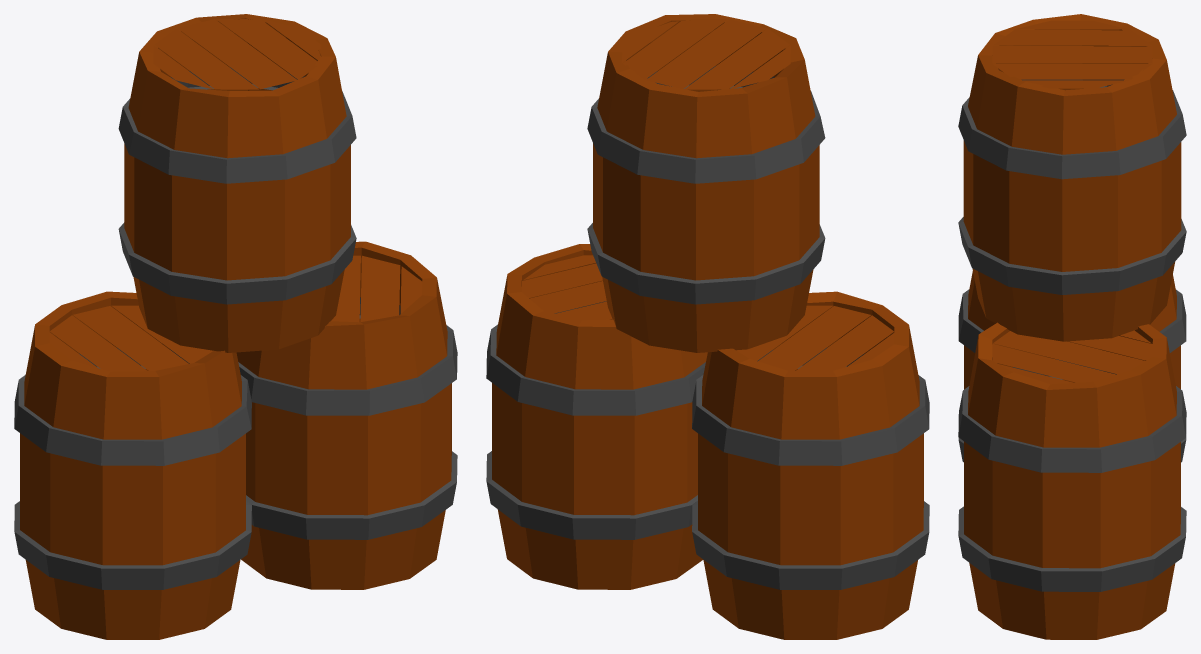
The model's file is 3Barrels.fbx.
3 renders of one model, left to right at view 1: azimuth 30°, elevation 25°; view 2: azimuth 150°, elevation 25°; view 3: azimuth 270°, elevation 25°, orthographic. The views are drawn at different scales.
Parts seen in each view (by area): view 1: Cylinder.001, Cylinder.005, Cylinder.009, Cylinder, Cylinder.004, Cylinder.008, Cylinder.006, Cylinder.003, Cylinder.010; view 2: Cylinder.001, Cylinder.005, Cylinder.009, Cylinder, Cylinder.004, Cylinder.008, Cylinder.006, Cylinder.003, Cylinder.010; view 3: Cylinder.009, Cylinder.005, Cylinder.008, Cylinder.004, Cylinder.006, Cylinder.010, Cylinder.001, Cylinder.
Boxes of the visible parts, x1,y1,x2,y2 form: Cylinder.001: [20, 291, 245, 639]; Cylinder.005: [124, 14, 350, 352]; Cylinder.009: [236, 241, 451, 589]; Cylinder: [14, 347, 251, 589]; Cylinder.004: [118, 67, 356, 304]; Cylinder.008: [238, 297, 457, 539]; Cylinder.006: [153, 19, 321, 89]; Cylinder.003: [49, 305, 213, 371]; Cylinder.010: [331, 255, 422, 322]; Cylinder.001: [698, 291, 923, 639]; Cylinder.005: [593, 14, 819, 352]; Cylinder.009: [492, 244, 707, 589]; Cylinder: [692, 347, 929, 589]; Cylinder.004: [587, 66, 825, 304]; Cylinder.008: [486, 301, 705, 539]; Cylinder.006: [621, 19, 790, 89]; Cylinder.003: [736, 305, 894, 370]; Cylinder.010: [521, 255, 612, 320]; Cylinder.009: [964, 322, 1180, 639]; Cylinder.005: [963, 14, 1181, 341]; Cylinder.008: [958, 359, 1186, 591]; Cylinder.004: [958, 79, 1186, 294]; Cylinder.006: [992, 20, 1152, 88]; Cylinder.010: [992, 330, 1152, 384]; Cylinder.001: [964, 271, 1180, 389]; Cylinder: [958, 289, 1186, 462].
Bounding box in the file's own units: 164 × 198 × 82.04.
